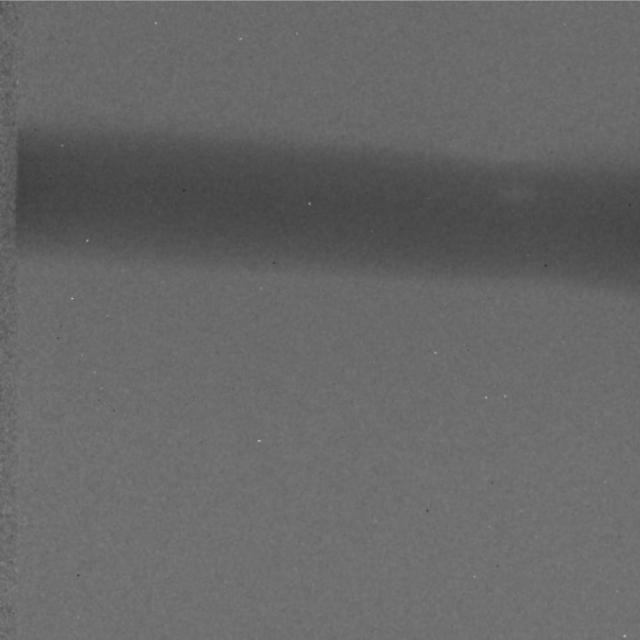slag-inclusion: (495, 182, 538, 214)
